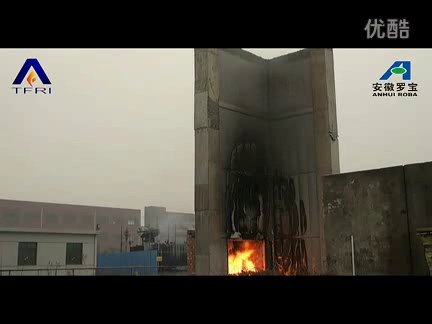fire: (226, 241, 264, 274)
